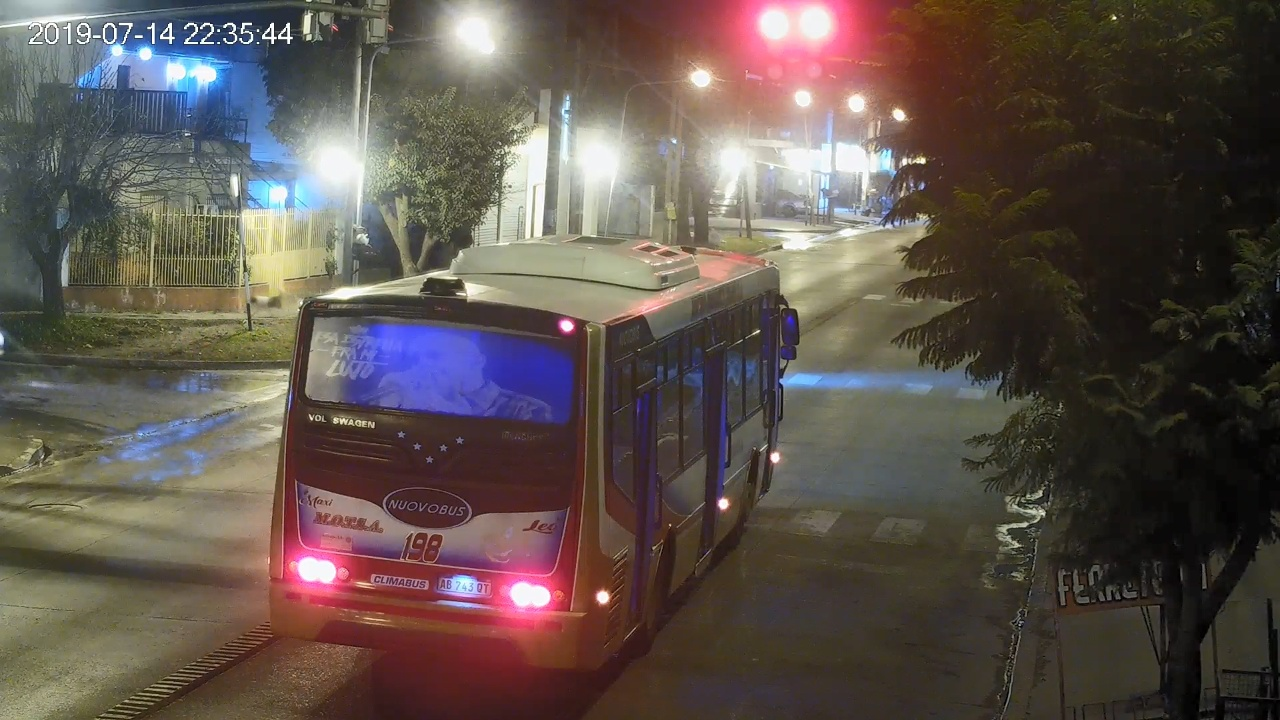bus: (270, 235, 800, 677)
traffic light: (802, 9, 828, 82), (763, 9, 787, 80)
